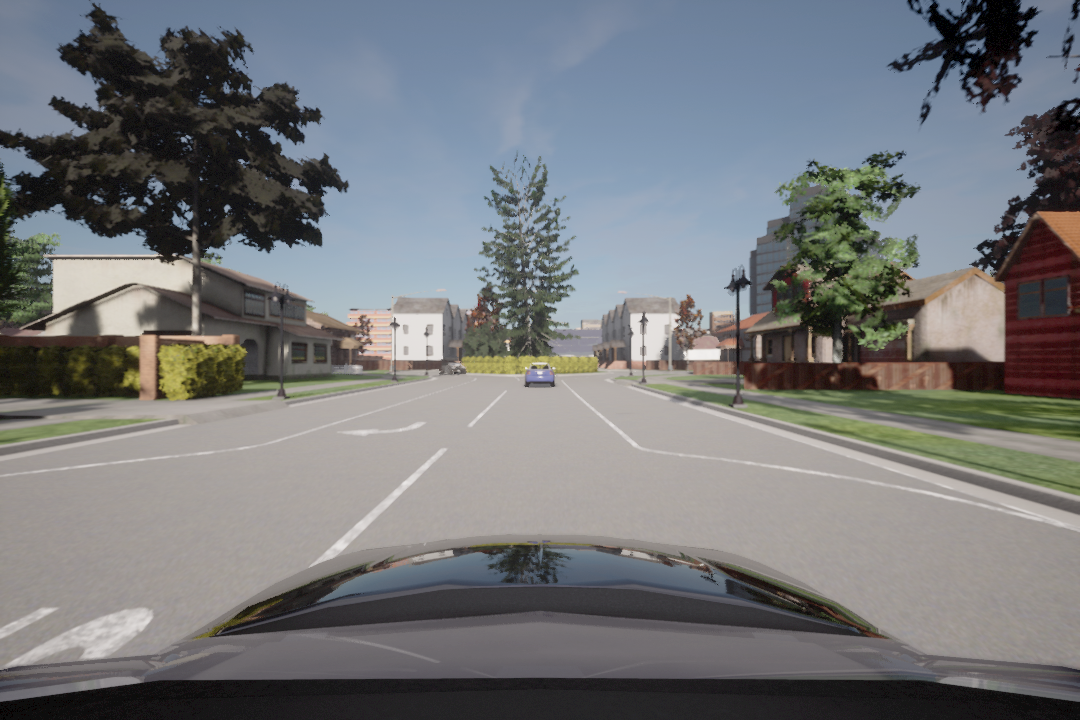RoadSign_right: (337, 417, 429, 441)
